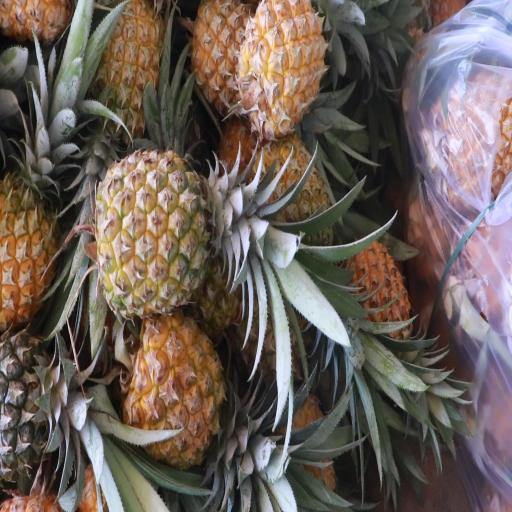------------------------------: (88, 162, 274, 316)
Pineapple - v8 v1: (111, 320, 271, 484), (1, 75, 74, 333), (238, 1, 341, 141), (92, 0, 168, 141), (187, 0, 252, 118)
